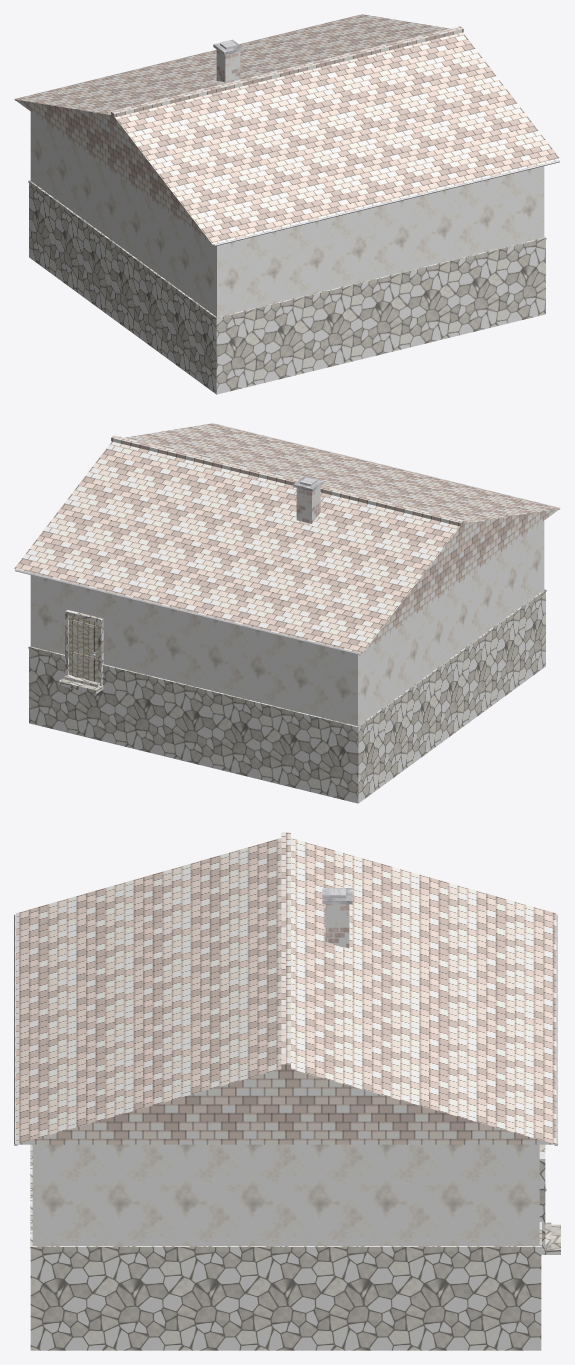
3 renders of one model, top to bottom at view 1: azimuth 30°, elevation 25°; view 2: azimuth 150°, elevation 25°; view 3: azimuth 270°, elevation 25°, orthographic. The views are drawn at different scales.
Visible parts, largest first — view 1: b1085400564; view 2: b1085400564; view 3: b1085400564.
Boxes of the visible parts, x1,y1,x2,y2 form: b1085400564: (14,14,560,394); b1085400564: (14,423,560,803); b1085400564: (14,832,560,1350).
Bounding box in the file's own units: 11.52 × 7.48 × 11.48.
Materials: 14 (14 with a texture image).
